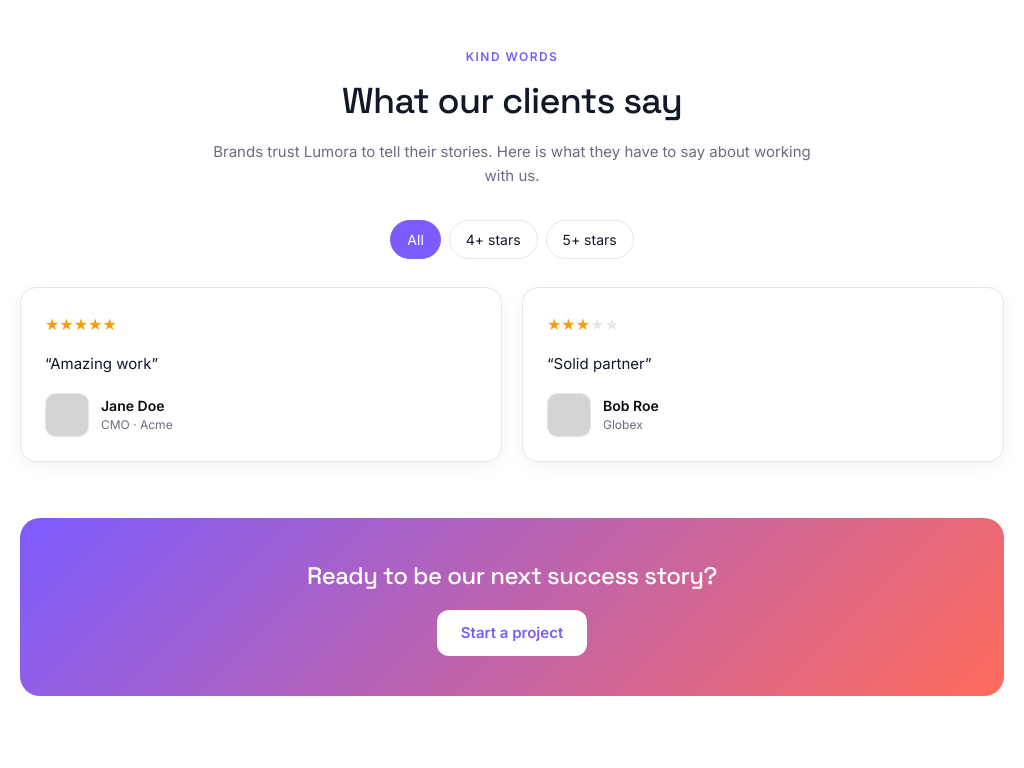
Test: Testimonials page › filters by rating when a chip is clicked
The width and height of the screenshot is (1024, 768).
Expected: the text "Jane Doe" is shown, top-left (101, 395), bottom-right (173, 416)
Click the button "4+ stars".
click(493, 240)  # box top-left (449, 220), bottom-right (538, 259)
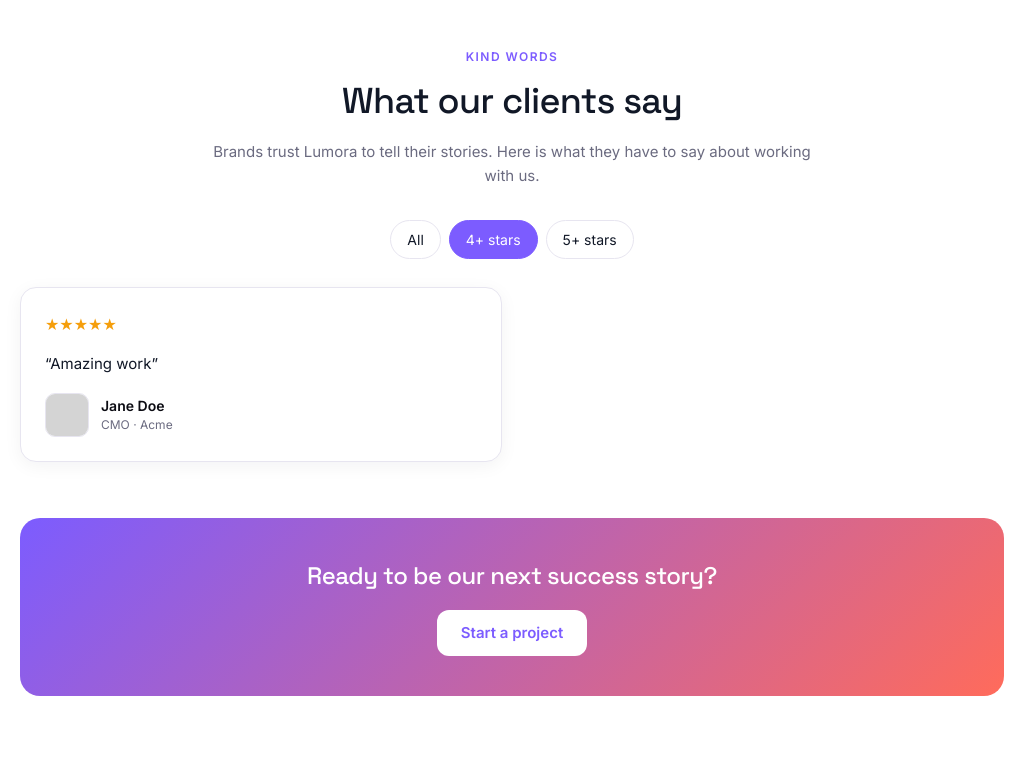
Expected: the number of elements with test id "testimonial-card" is 1, top-left (20, 287), bottom-right (502, 462)
Now the text "Bob Roe" is gone
